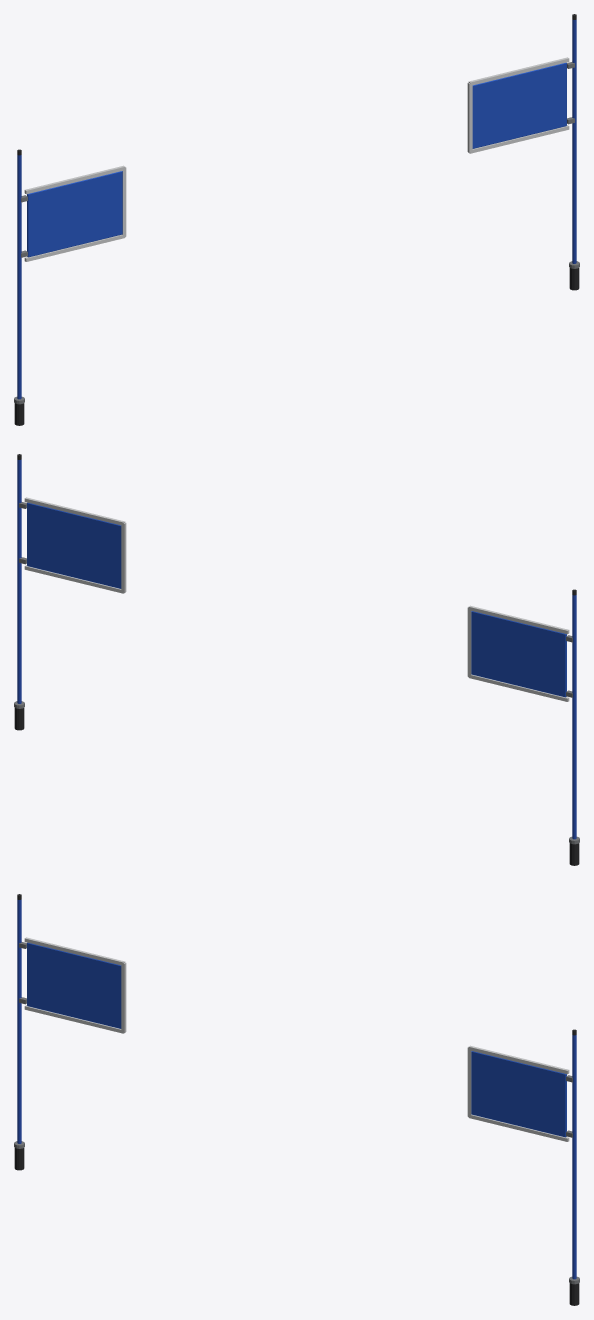
File: gate-blue.glb
The picture shows the model from 3 angles, top to bottom: view 1: azimuth 30°, elevation 25°; view 2: azimuth 150°, elevation 25°; view 3: azimuth 330°, elevation 25°; orthographic projection.
Parts seen in each view (by area): view 1: gate-blue; view 2: gate-blue; view 3: gate-blue.
Part boxes in pixels (x1,y1,x2,y2): gate-blue: [14, 14, 579, 425]; gate-blue: [14, 454, 579, 865]; gate-blue: [14, 894, 579, 1305].
Size of the model in its own units: 4.27 by 1.98 by 0.072.
